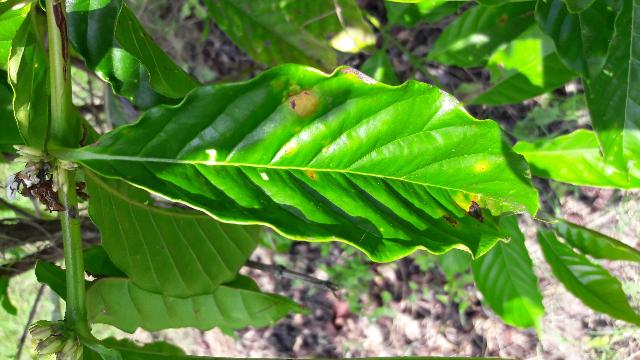rust_level_1: (65, 58, 565, 262)
